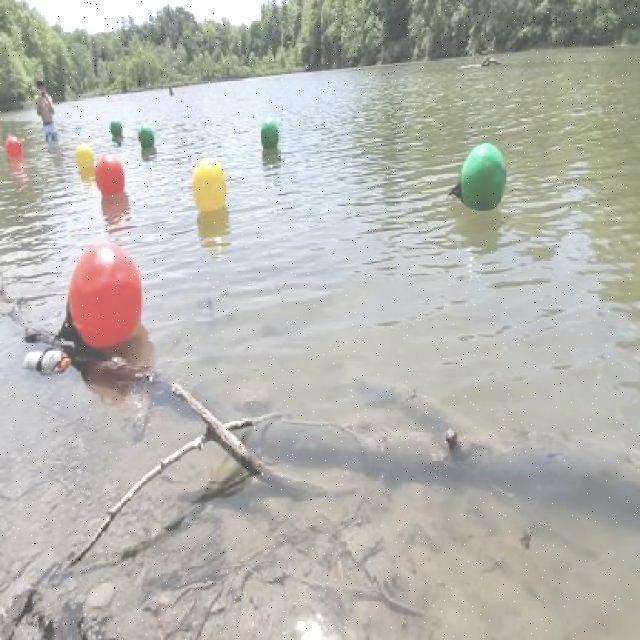buoy: (58, 240, 144, 351), (447, 142, 507, 214), (192, 156, 226, 212), (94, 152, 126, 196), (259, 117, 279, 149), (76, 143, 95, 171), (5, 135, 23, 157), (138, 124, 154, 148), (109, 117, 123, 137)
